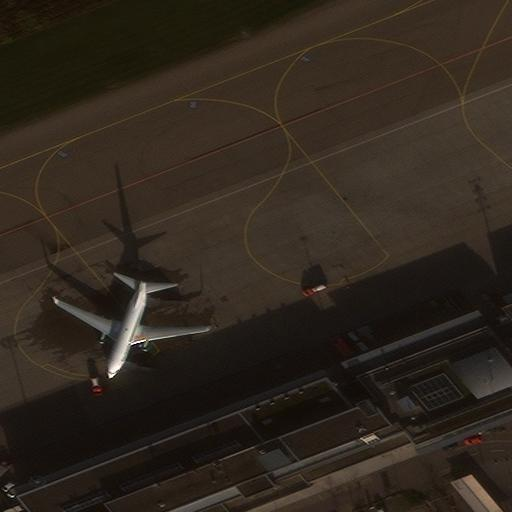Medium Civil Transport: (53, 280, 208, 378)
